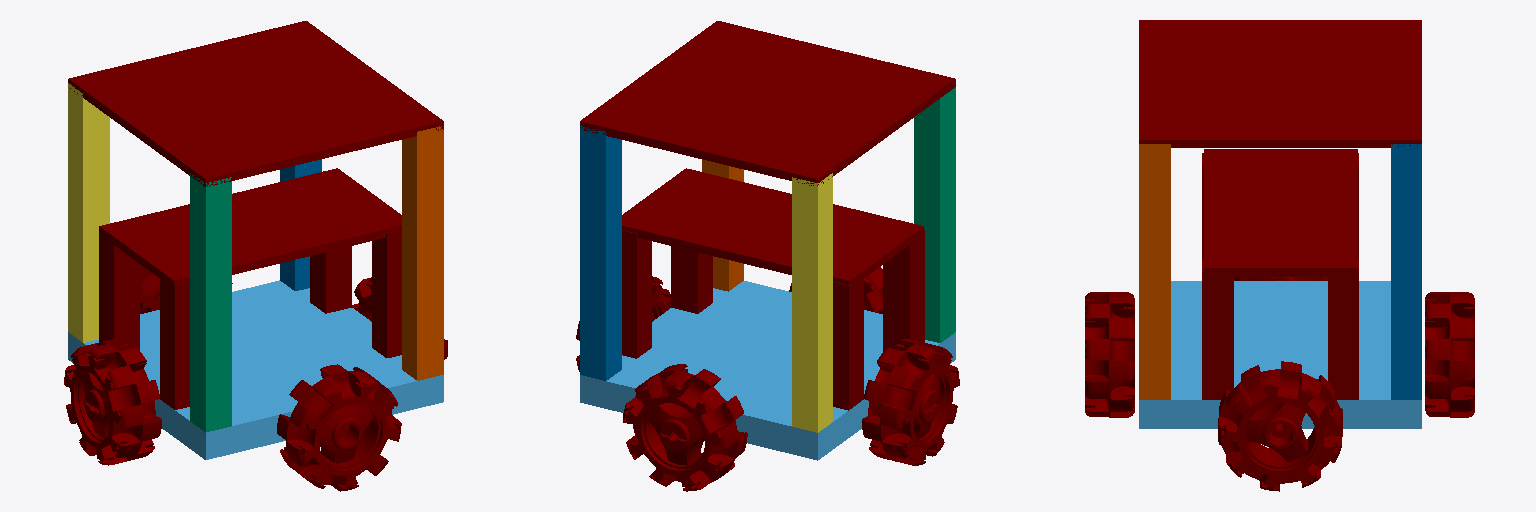
robot.urdf — zoro:
<?xml version="1.0"?>
<robot name="zoro">
    <link name="base_footprint"/>
    <material name="Yellow">
        <color rgba="0.5 0.5 0.0 1" />
      </material>
      <material name="Red">
        <color rgba="0.5 0.0 0.0 1" />
      </material>
      <material name="Blue">
        <color rgba="0.0 0.0 0.4 1" />
      </material>
      <material name="Green">
        <color rgba="0.0 0.4 0.0 1" />
      </material>
      <material name="Black">
        <color rgba="0.0 0 0.0 1" />
      </material>

      <link name="base_link">
        <inertial>
             <origin xyz="0.0 0.0 0.0" rpy="0 0 0"/>   
             <mass value="0.1"/>
             <inertia ixx="0.5" ixy="0.5" ixz="0.0000018" iyy="0.068406" iyz="-0.0049053" izz="0.12343" /> 
        </inertial>
        <visual>
         <origin xyz="0 0 0" rpy="0 0 0"/>   
         <geometry>    
            <box size="0.9 0.9 0.1"/>
         </geometry>
        </visual>
        <collision>
          <origin xyz="0 0 0" rpy="0 0 0"/>   
          <geometry>    
               <box size="0.9 0.9 0.1"/>
            </geometry>
        </collision>
    </link>

    <joint name="base_joint" type="fixed">
        <origin xyz="-0.5 0.5 0.15" rpy="0 0 0"/>   
        <parent link="base_footprint"/>
        <child link="base_link"/>
        <axis xyz="0.0 0.0 0.0"/>
    </joint>




    <link name="max_r1_link">
      <inertial>
           <origin xyz="0.0 0.0 0.0" rpy="0 0 0"/>   
           <mass value="0.100"/>
           <inertia ixx="0.079945" ixy="0.00012078" ixz="0.00015606" iyy="0.068406" iyz="-0.0049053" izz="0.12343" /> 
      </inertial>
      <visual>
       <origin xyz="0 0 0" rpy="0 0 0"/>   
       <geometry>    
          <box size="0.1 0.1 0.9"/>
       </geometry>
      </visual>
      <collision>
        <origin xyz="0 0 0" rpy="0 0 0"/>   
        <geometry>    
             <box size="0.1 0.1 0.9"/>
          </geometry>
      </collision>
  </link>

  <joint name="mzx_r1_joint" type="fixed">
      <origin xyz="-0.9 0.1 0.65" rpy="0 0 0"/>   
      <parent link="base_footprint"/>
      <child link="max_r1_link"/>
      <axis xyz="0.0 0.0 0.0"/>
  </joint>


  <link name="max_r2_link">
    <inertial>
         <origin xyz="0.0 0.0 0.0" rpy="0 0 0"/>   
         <mass value="0.1"/>
         <inertia ixx="0.079945" ixy="0.00012078" ixz="0.00015606" iyy="0.068406" iyz="-0.0049053" izz="0.12343" /> 
    </inertial>
    <visual>
     <origin xyz="0 0 0" rpy="0 0 0"/>   
     <geometry>    
        <box size="0.1 0.1 0.9"/>
     </geometry>
    </visual>
    <collision>
      <origin xyz="0 0 0" rpy="0 0 0"/>   
      <geometry>    
           <box size="0.1 0.1 0.9"/>
        </geometry>
    </collision>
</link>

<joint name="max_r2_joint" type="fixed">
    <origin xyz="-0.9 0.9 0.65" rpy="0 0 0"/>   
    <parent link="base_footprint"/>
    <child link="max_r2_link"/>
    <axis xyz="0.0 0.0 0.0"/>
</joint>

<link name="max_r3_link">
  <inertial>
       <origin xyz="0.0 0.0 0.0" rpy="0 0 0"/>   
       <mass value="0.1"/>
       <inertia ixx="0.079945" ixy="0.00012078" ixz="0.00015606" iyy="0.068406" iyz="-0.0049053" izz="0.12343" /> 
  </inertial>
  <visual>
   <origin xyz="0 0 0" rpy="0 0 0"/>   
   <geometry>    
      <box size="0.1 0.1 0.9"/>
   </geometry>
  </visual>
  <collision>
    <origin xyz="0 0 0" rpy="0 0 0"/>   
    <geometry>    
         <box size="0.1 0.1 0.9"/>
      </geometry>
  </collision>
</link>

<joint name="max_r3_joint" type="fixed">
  <origin xyz="-0.1 0.9 0.65" rpy="0 0 0"/>   
  <parent link="base_footprint"/>
  <child link="max_r3_link"/>
  <axis xyz="0.0 0.0 0.0"/>
</joint>


<link name="max_r4_link">
  <inertial>
       <origin xyz="0.0 0.0 0.0" rpy="0 0 0"/>   
       <mass value="0.1"/>
       <inertia ixx="0.079945" ixy="0.00012078" ixz="0.00015606" iyy="0.068406" iyz="-0.0049053" izz="0.12343" /> 
  </inertial>
  <visual>
   <origin xyz="0 0 0" rpy="0 0 0"/>   
   <geometry>    
    <box size="0.1 0.1 0.9"/>
  </geometry>
  </visual>
  <collision>
    <origin xyz="0 0 0" rpy="0 0 0"/>   
    <geometry>    
      <box size="0.1 0.1 0.9"/>
    </geometry>
  </collision>
</link>

<joint name="max_r4_joint" type="fixed">
  <origin xyz="-0.1 0.1 0.65" rpy="0 0 0"/>   
  <parent link="base_footprint"/>
  <child link="max_r4_link"/>
  <axis xyz="0.0 0.0 0.0"/>
</joint>

<!-- min rods for battery and buck convertor holder -->

<link name="min_r1_link">
  <inertial>
       <origin xyz="0.0 0.0 0.0" rpy="0 0 0"/>   
       <mass value="0.05"/>
       <inertia ixx="0.079945" ixy="0.00012078" ixz="0.00015606" iyy="0.068406" iyz="-0.0049053" izz="0.12343" /> 
  </inertial>
  <visual>
    <material name="Red">
    </material>
   <origin xyz="0 0 0" rpy="0 0 0"/>   
   <geometry>    
    <box size="0.1 0.1 0.45"/>
  </geometry>
  </visual>
  <collision>
    <origin xyz="0 0 0" rpy="0 0 0"/>   
    <geometry>    
      <box size="0.1 0.1 0.45"/>
    </geometry>
  </collision>
</link>

<joint name="min_r1_joint" type="fixed">
  <origin xyz="-0.9 0.7 0.425" rpy="0 0 0"/>   
  <parent link="base_footprint"/>
  <child link="min_r1_link"/>
  <axis xyz="0.0 0.0 0.0"/>
</joint>


<link name="min_r2_link">
  <inertial>
       <origin xyz="0.0 0.0 0.0" rpy="0 0 0"/>   
       <mass value="0.05"/>
       <inertia ixx="0.079945" ixy="0.00012078" ixz="0.00015606" iyy="0.068406" iyz="-0.0049053" izz="0.12343" /> 
  </inertial>
  <visual>
    <material name="Red">
    </material>
   <origin xyz="0 0 0" rpy="0 0 0"/>   
   <geometry>    
    <box size="0.1 0.1 0.45"/>
  </geometry>
  </visual>
  <collision>
    <origin xyz="0 0 0" rpy="0 0 0"/>   
    <geometry>    
      <box size="0.1 0.1 0.45"/>
    </geometry>
  </collision>
</link>

<joint name="min_r2_joint" type="fixed">
  <origin xyz="-0.9 0.3 0.425" rpy="0 0 0"/>   
  <parent link="base_footprint"/>
  <child link="min_r2_link"/>
  <axis xyz="0.0 0.0 0.0"/>
</joint>

<link name="min_r3_link">
  <inertial>
       <origin xyz="0.0 0.0 0.0" rpy="0 0 0"/>   
       <mass value="0.05"/>
       <inertia ixx="0.079945" ixy="0.00012078" ixz="0.00015606" iyy="0.068406" iyz="-0.0049053" izz="0.12343" /> 
  </inertial>
  <visual>
    <material name="Red">
    </material>
   <origin xyz="0 0 0" rpy="0 0 0"/>   
   <geometry>    
    <box size="0.1 0.1 0.45"/>
  </geometry>
  </visual>
  <collision>
    <origin xyz="0 0 0" rpy="0 0 0"/>   
    <geometry>    
      <box size="0.1 0.1 0.45"/>
    </geometry>
  </collision>
</link>

<joint name="min_r3_joint" type="fixed">
  <origin xyz="-0.1 0.7 0.425" rpy="0 0 0"/>   
  <parent link="base_footprint"/>
  <child link="min_r3_link"/>
  <axis xyz="0.0 0.0 0.0"/>
</joint>

<link name="min_r4_link">
  <inertial>
       <origin xyz="0.0 0.0 0.0" rpy="0 0 0"/>   
       <mass value="0.05"/>
       <inertia ixx="0.079945" ixy="0.00012078" ixz="0.00015606" iyy="0.068406" iyz="-0.0049053" izz="0.12343" /> 
  </inertial>
  <visual>
    <material name="Red">
    </material>
   <origin xyz="0 0 0" rpy="0 0 0"/>   
   <geometry>    
    <box size="0.1 0.1 0.45"/>
  </geometry>
  </visual>
  <collision>
    <origin xyz="0 0 0" rpy="0 0 0"/>   
    <geometry>    
      <box size="0.1 0.1 0.45"/>
    </geometry>
  </collision>
</link>

<joint name="min_r4_joint" type="fixed">
  <origin xyz="-0.1 0.3 0.425" rpy="0 0 0"/>   
  <parent link="base_footprint"/>
  <child link="min_r4_link"/>
  <axis xyz="0.0 0.0 0.0"/>
</joint>


<!-- base and top plates -->



<link name="base_plate_link">
  <inertial>
       <origin xyz="0.0 0.0 0.0" rpy="0 0 0"/>   
       <mass value="0.5"/>
       <inertia ixx="0.079945" ixy="0.00012078" ixz="0.00015606" iyy="0.068406" iyz="-0.0049053" izz="0.12343" /> 
  </inertial>
  <visual>
    <material name="Red">
    </material>
   <origin xyz="0 0 0" rpy="0 0 0"/>   
   <geometry>    
    <box size="0.9 0.49 0.03"/>
  </geometry>
  </visual>
  <collision>
    <origin xyz="0 0 0" rpy="0 0 0"/>   
    <geometry>    
      <box size="1 0.5 0.03"/>
    </geometry>
  </collision>
</link>

<joint name="base_plate_joint" type="fixed">
  <origin xyz="-0.5 0.5 0.65" rpy="0 0 0"/>   
  <parent link="base_footprint"/>
  <child link="base_plate_link"/>
  <axis xyz="0.0 0.0 0.0"/>
</joint>


<link name="top_plate_link">
  <inertial>
       <origin xyz="0.0 0.0 0.0" rpy="0 0 0"/>   
       <mass value="1"/>
       <inertia ixx="0.079945" ixy="0.00012078" ixz="0.00015606" iyy="0.068406" iyz="-0.0049053" izz="0.12343" /> 
  </inertial>
  <visual>
    <material name="Red">
    </material>
   <origin xyz="0 0 0" rpy="0 0 0"/>   
   <geometry>    
    <box size="0.9 0.9 0.03"/>
  </geometry>
  </visual>
  <collision>
    <origin xyz="0 0 0" rpy="0 0 0"/>   
    <geometry>    
      <box size="0.9 0.9 0.03"/>
    </geometry>
  </collision>
</link>

<joint name="top_plate_joint" type="fixed">
  <origin xyz="-0.5 0.5 1.1" rpy="0 0 0"/>   
  <parent link="base_footprint"/>
  <child link="top_plate_link"/>
  <axis xyz="0.0 0.0 0.0"/>
</joint>


<!-- lidar link -->



<link name="laser">
  <visual>
  <origin rpy="0 0 0" xyz="0 0 0"/>
  <geometry>
    <mesh filename="package://zoro_description/meshes/RpLidar.stl" scale="0.004 0.004 0.004"/>
  </geometry>
  <material name="Black"/>
  </visual>
  <collision>
  <origin rpy="0 0 0" xyz="0 0 0"  />
  <geometry>
    <mesh filename="package://zoro_description/meshes/RpLidar.stl" scale="0.004 0.004 0.004"/>
  </geometry>
  </collision>
  </link>  
  
  <joint name="laser_joint" type="fixed">
    <origin xyz="-0.3 0.95 0.7" rpy="0 0 1.5708" />
    <parent link="base_link" />
    <child link="laser" />
  </joint>
  









<!-- _____________________________________wheels____________________________________________________ -->












<!-- _______________________omni direction side wheels______________________________ -->

<link name="wheel2_link">
  <inertial>
    <origin xyz="0.0 0.0 0.0" rpy="0 0 0" />
    <mass value="0.50917" />
    <inertia ixx="0.0012185" ixy="1.8059E-20" ixz="3.0427E-20" iyy="0.0012185" iyz="-4.0491E-20" izz="0.0022928" />
  </inertial>
  <visual>
    <origin xyz="0 0 0" rpy="0 1.5708 0" />
<geometry>
  <mesh filename="package://zoro_description/meshes/body.stl" scale="0.008 0.008 0.008"/>
</geometry>      
    <material name="Red" />
  </visual>
  <collision>
    <origin xyz="0 0 0" rpy="0 1.5708 0" />
      <geometry>
        <mesh filename="package://zoro_description/meshes/body.stl" scale="0.008 0.008 0.008"/>
    </geometry>
  </collision>
</link>

<joint name="wheel2_joint" type="continuous">
  <origin xyz="-0.04 0.5 0.15" rpy="0 0 0" />
  <parent link="base_footprint" />
  <child link="wheel2_link" />
  <axis xyz="0 0 0" />
</joint>




<link name="wheel4_link">
  <inertial>
    <origin xyz="0.0 0.0 0.0" rpy="0 0 0" />
    <mass value="0.50917" />
    <inertia ixx="0.0012185" ixy="1.8059E-20" ixz="3.0427E-20" iyy="0.0012185" iyz="-4.0491E-20" izz="0.0022928" />
  </inertial>
  <visual>
    <origin xyz="0 0 0" rpy="0 1.5708 0" />
<geometry>
  <mesh filename="package://zoro_description/meshes/body.stl" scale="0.008 0.008 0.008"/>
</geometry>      
    <material name="Red"/>
  </visual>
  <collision>
    <origin xyz="0 0 0" rpy="0 1.5708 0" />
      <geometry>
        <mesh filename="package://zoro_description/meshes/body.stl" scale="0.008 0.008 0.008"/>
    </geometry>
  </collision>
</link>

<joint name="wheel4_joint" type="continuous">
  <origin xyz="-1.12 0.5 0.15" rpy="1.5708 0 0" />
  <parent link="base_footprint" />
  <child link="wheel4_link" />
  <axis xyz="0 0 0" />
</joint>



<!-- _____________________________________omni directional forward direction_____________________________________________________ -->


<!-- ________________________________________________ -->


<!-- <link name="wheel1_link">
  <inertial>
    <origin xyz="0.0 0.0 0.0" rpy="0 0 0" />
    <mass value="0.50917" />
    <inertia ixx="0.0012185" ixy="1.8059E-20" ixz="3.0427E-20" iyy="0.0012185" iyz="-4.0491E-20" izz="0.0022928" />
  </inertial>
  <visual>
    <origin xyz="0 0 0" rpy="1.5708 0 0" />
    <geometry>
      <mesh filename="package://zoro_description/meshes/body.stl" scale="0.008 0.008 0.008"/>
    </geometry>
    <material name="Blue" />
  </visual>
  <collision>
    <origin xyz="0 0 0" rpy="1.5708 0 0" />
      <geometry>
        <mesh filename="package://zoro_description/meshes/body.stl" scale="0.008 0.008 0.008"/>
      </geometry>
  </collision>
</link> -->


<!-- <joint name="wheel1_joint" type="continuous">
<origin xyz="-0.5 0.036 0.15" rpy="0 0 0" />
<parent link="base_footprint" />
<child link="wheel1_link" />
<axis xyz="0 0 0" />
</joint> -->

<link name="wheel1_link">
  <inertial>
    <origin xyz="0.0 0.0 0.0" rpy="0 0 0" />
    <mass value="0.50917" />
    <inertia ixx="0.0012185" ixy="1.8059E-20" ixz="3.0427E-20" iyy="0.0012185" iyz="-4.0491E-20" izz="0.0022928" />
  </inertial>
  <visual>
    <origin xyz="0 0 0" rpy="1.5708 0 0" />
<geometry>
  <mesh filename="package://zoro_description/meshes/body.stl" scale="0.008 0.008 0.008"/>
</geometry>      
    <material name="Red" />
  </visual>
  <collision>
    <origin xyz="0 0 0" rpy="1.5708 0 0" />
      <geometry>
        <mesh filename="package://zoro_description/meshes/body.stl" scale="0.008 0.008 0.008"/>
    </geometry>
  </collision>
</link>

<joint name="wheel1_joint" type="continuous">
  <origin xyz="-0.5 0.036 0.15" rpy="0 0 0" />
  <parent link="base_footprint" />
  <child link="wheel1_link" />
  <axis xyz="0 0 0" />
</joint>


<!-- <link name="wheel3_link">
  <inertial>
    <origin xyz="0.0 0.0 0.0" rpy="0 0 0" />
    <mass value="0.50917" />
    <inertia ixx="0.0012185" ixy="1.8059E-20" ixz="3.0427E-20" iyy="0.0012185" iyz="-4.0491E-20" izz="0.0022928" />
  </inertial>
  <visual>
    <origin xyz="0 0 0" rpy="1.5708 0 0" />
    <geometry>
      <mesh filename="package://zoro_description/meshes/body.stl" scale="0.008 0.008 0.008"/>
    </geometry>
    <material name="Blue" />
  </visual>
  <collision>
    <origin xyz="0 -0.03 0" rpy="1.5708 0 0" />
      <geometry>
        <mesh filename="package://zoro_description/meshes/body.stl" scale="0.008 0.008 0.008"/>
      </geometry>
  </collision>
</link>

<joint name="wheel3_joint" type="continuous">
<origin xyz="-0.5 1.12 0.15" rpy="0 0 0" />
<parent link="base_footprint" />
<child link="wheel3_link" />
<axis xyz="0 0 0" />
</joint> -->

<link name="wheel3_link">
  <inertial>
    <origin xyz="0.0 0.0 0.0" rpy="0 0 0" />
    <mass value="0.50917" />
    <inertia ixx="0.0012185" ixy="1.8059E-20" ixz="3.0427E-20" iyy="0.0012185" iyz="-4.0491E-20" izz="0.0022928" />
  </inertial>
  <visual>
    <origin xyz="0 0 0" rpy="1.5708 0 0" />
<geometry>
  <mesh filename="package://zoro_description/meshes/body.stl" scale="0.008 0.008 0.008"/>
</geometry>      
    <material name="Red" />
  </visual>
  <collision>
    <origin xyz="0 0 0" rpy="1.5708 0 0" />
      <geometry>
        <mesh filename="package://zoro_description/meshes/body.stl" scale="0.008 0.008 0.008"/>
    </geometry>
  </collision>
</link>

<joint name="wheel3_joint" type="continuous">
  <origin xyz="-0.5 1.12 0.15" rpy="0 0 0" />
  <parent link="base_footprint" />
  <child link="wheel3_link" />
  <axis xyz="0 0 0" />
</joint>



<gazebo>
    <plugin name="gazebo_ros_control" filename="libgazebo_ros_control.so">
<updateRate>10</updateRate>
<!-- Name of left joint, defaults to `left_joint` -->
<leftJoint>wheel2_joint</leftJoint>
<rearleftJoint>wheel1_joint</rearleftJoint>                  
<!-- Name of right joint, defaults to `right_joint` -->
<rearrightJoint>wheel3_joint</rearrightJoint>
<rightJoint>wheel4_joint</rightJoint>
<!-- The distance from the center of one wheel to the other, in meters, defaults to 0.34 m -->
<wheelSeparation>0.25</wheelSeparation>
<!-- Diameter of the wheels, in meters, defaults to 0.15 m -->
<wheelDiameter>0.1</wheelDiameter>
<!-- Wheel acceleration, in rad/s^2, defaults to 0.0 rad/s^2 -->
<wheelAcceleration>20</wheelAcceleration>
<!-- Maximum torque which the wheels can produce, in Nm, defaults to 5 Nm -->
<wheelTorque>15</wheelTorque>
<!-- Topic to receive geometry_msgs/Twist message commands, defaults to `cmd_vel` -->
<commandTopic>zoro_velocity</commandTopic>
<!-- Topic to publish nav_msgs/Odometry messages, defaults to `odom` -->
<odometryTopic>odometry_z</odometryTopic>
<!-- Odometry frame, defaults to `odom` -->
<odometryFrame>odometry</odometryFrame>
<!-- Robot frame to calculate odometry from, defaults to `base_footprint` -->
<robotBaseFrame>base_footprint</robotBaseFrame>
<!-- Odometry source, 0 for ENCODER, 1 for WORLD, defaults to WORLD -->
<odometrySource>1</odometrySource>
<!-- Set to true to publish transforms for the wheel links, defaults to false -->
<publishWheelTF>false</publishWheelTF>
<!-- Set to true to publish transforms for the odometry, defaults to true -->
<publishOdom>True</publishOdom>
<!-- Set to true to publish sensor_msgs/JointState on /joint_states for the wheel joints, defaults to false -->
<publishWheelJointState>true</publishWheelJointState>
<!-- Set to true to swap right and left wheels, defaults to true -->
<legacyMode>false</legacyMode>
</plugin>
</gazebo>

</robot>

--- Facts derived from the render (not from the file) ---
The picture shows the robot from 3 angles, left to right: view 1: azimuth 30°, elevation 25°; view 2: azimuth 150°, elevation 25°; view 3: azimuth 270°, elevation 25°; orthographic projection.
Robot: zoro — 17 links, 16 joints (4 continuous, 12 fixed); root link base_footprint; default pose: every joint at zero.
Visible links, largest first — view 1: top_plate_link, base_link, base_plate_link, wheel1_link, max_r1_link, max_r4_link, wheel4_link, max_r2_link, min_r1_link, min_r2_link, min_r4_link, min_r3_link (+3 smaller); view 2: top_plate_link, base_link, base_plate_link, wheel3_link, max_r3_link, max_r2_link, wheel4_link, max_r1_link, min_r2_link, min_r1_link, min_r3_link, min_r4_link (+3 smaller); view 3: top_plate_link, base_link, base_plate_link, wheel2_link, max_r4_link, max_r3_link, wheel1_link, wheel3_link, min_r4_link, min_r3_link.
Boxes of the visible links, box(x1,y1,x2,y2) form: top_plate_link: box(68, 21, 443, 186); base_link: box(68, 280, 443, 459); base_plate_link: box(99, 168, 401, 286); wheel1_link: box(277, 364, 401, 491); max_r1_link: box(190, 173, 231, 432); max_r4_link: box(402, 126, 443, 380); wheel4_link: box(64, 338, 161, 465); max_r2_link: box(68, 83, 109, 342); min_r1_link: box(99, 234, 139, 350); min_r2_link: box(160, 275, 189, 409); min_r4_link: box(372, 230, 401, 357); min_r3_link: box(310, 246, 351, 313); top_plate_link: box(580, 21, 955, 185); base_link: box(580, 281, 955, 460); base_plate_link: box(622, 168, 923, 288); wheel3_link: box(623, 364, 747, 491); max_r3_link: box(580, 126, 621, 380); max_r2_link: box(792, 173, 832, 432); wheel4_link: box(862, 339, 959, 465); max_r1_link: box(914, 87, 955, 342); min_r2_link: box(883, 230, 924, 351); min_r1_link: box(833, 275, 863, 410); min_r3_link: box(622, 230, 651, 358); min_r4_link: box(671, 246, 712, 313); top_plate_link: box(1139, 20, 1421, 147); base_link: box(1139, 281, 1421, 428); base_plate_link: box(1204, 149, 1357, 276); wheel2_link: box(1218, 361, 1342, 491); max_r4_link: box(1139, 144, 1170, 399); max_r3_link: box(1391, 144, 1421, 399); wheel1_link: box(1085, 292, 1134, 417); wheel3_link: box(1425, 292, 1474, 417); min_r4_link: box(1202, 259, 1233, 399); min_r3_link: box(1328, 259, 1358, 399).
Bounding box of the posed robot: 1.24 × 1.24 × 1.17 m (x, y, z).
4 mesh visuals loaded from 2 distinct referenced files (1 binary STL); not drawn: 1 (reference not matched to a file when rendering).
